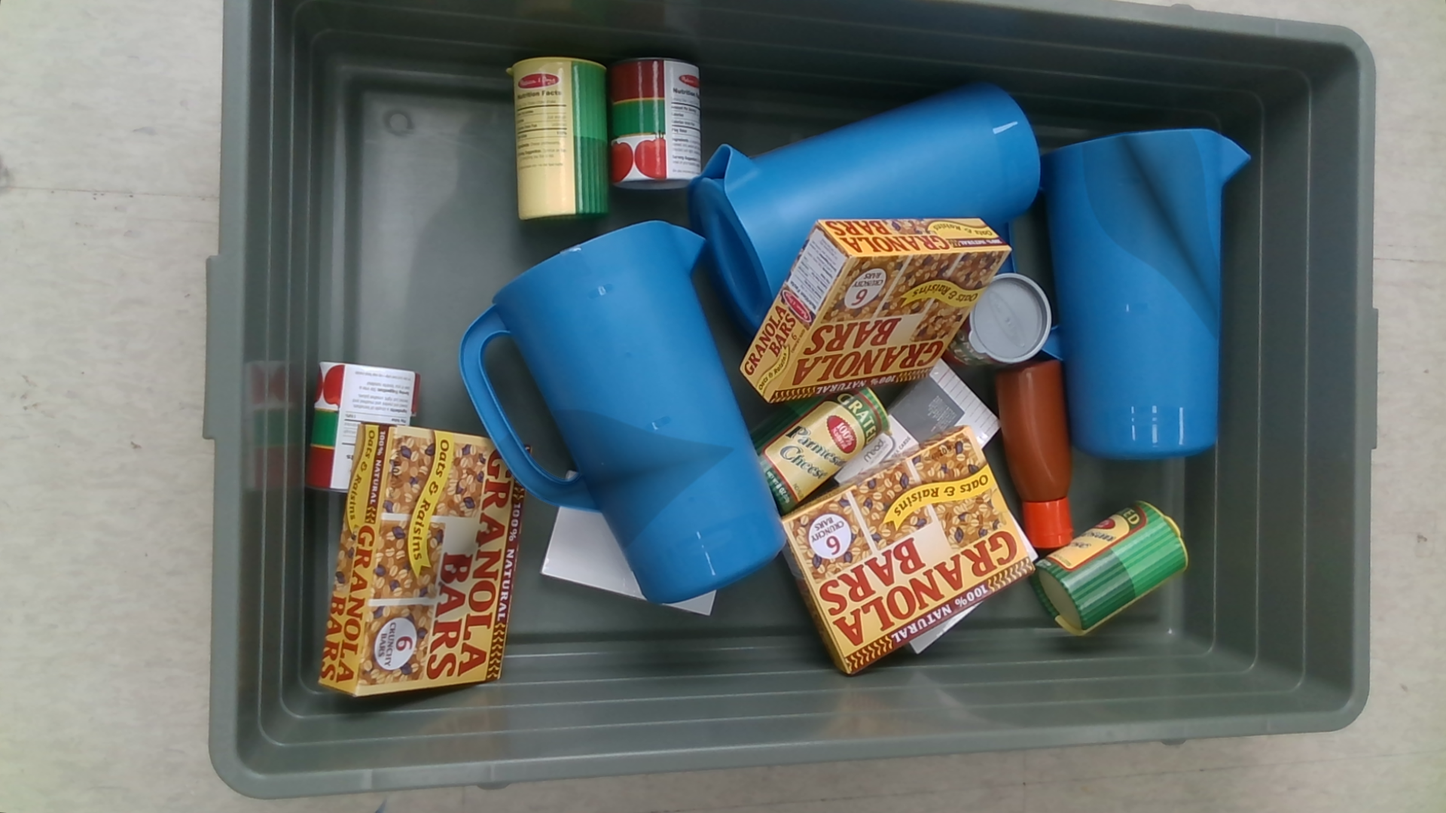defect: (372, 410, 734, 662), (1081, 130, 1220, 340)
